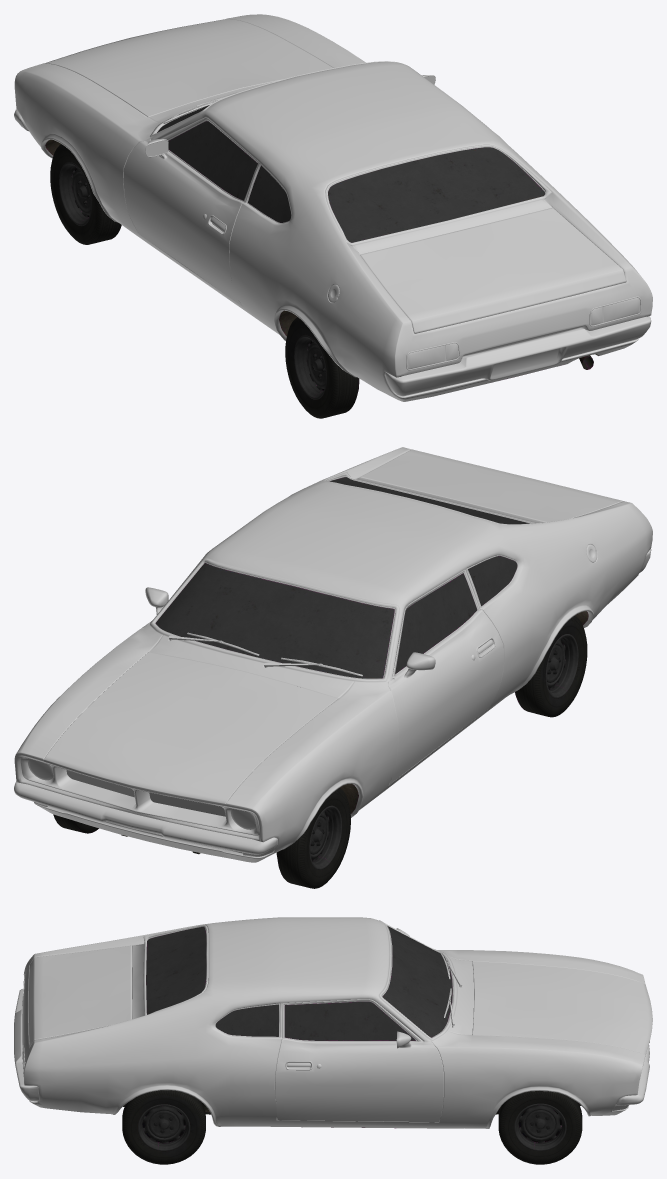
The model's file is Falcon-351.fbx.
The picture shows the model from 3 angles, top to bottom: view 1: azimuth 30°, elevation 25°; view 2: azimuth 150°, elevation 25°; view 3: azimuth 270°, elevation 25°; orthographic projection. The views are drawn at different scales.
Visible parts, largest first — view 1: Bodywork, BackBonnet, bonnet, Glasses, Door.R, BackTire, Glasses.R, FrontTire.R, Chassi; view 2: Bodywork, bonnet, Glasses, Door.R, BackBonnet, FrontTire.R, BackTire, Glasses.R; view 3: Bodywork, Door.L, bonnet, Glasses, BackBonnet, BackTire, FrontTire.L, Glasses.L.
Boxes of the visible parts, bbox=[...] form: Bodywork: bbox=[14, 14, 652, 401]; BackBonnet: bbox=[360, 207, 626, 333]; bonnet: bbox=[45, 19, 333, 117]; Glasses: bbox=[155, 92, 545, 242]; Door.R: bbox=[123, 117, 258, 305]; BackTire: bbox=[285, 317, 359, 418]; Glasses.R: bbox=[168, 120, 258, 201]; FrontTire.R: bbox=[50, 144, 121, 244]; Chassi: bbox=[45, 139, 598, 379]; Bodywork: bbox=[14, 447, 652, 862]; bonnet: bbox=[44, 652, 337, 805]; Glasses: bbox=[154, 476, 530, 678]; Door.R: bbox=[388, 569, 503, 784]; BackBonnet: bbox=[360, 449, 622, 522]; FrontTire.R: bbox=[276, 788, 350, 888]; BackTire: bbox=[515, 616, 587, 717]; Glasses.R: bbox=[395, 572, 478, 675]; Bodywork: bbox=[14, 917, 649, 1128]; Door.L: bbox=[275, 999, 443, 1122]; bonnet: bbox=[472, 961, 652, 1054]; Glasses: bbox=[145, 924, 461, 1037]; BackBonnet: bbox=[28, 945, 132, 1047]; BackTire: bbox=[122, 1090, 205, 1164]; FrontTire.L: bbox=[498, 1091, 582, 1164]; Glasses.L: bbox=[284, 1001, 417, 1041].
Size of the model in its own units: 224 by 156 by 536.
